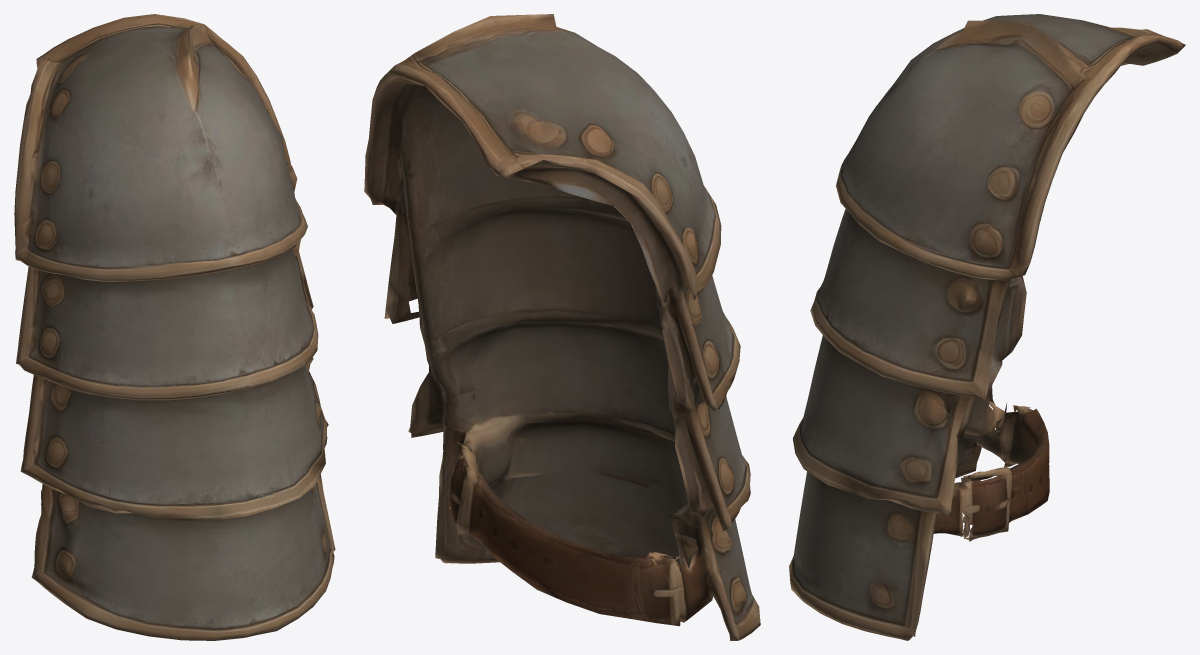
File: steel armor 3d model.glb
3 renders of one model, left to right at view 1: azimuth 30°, elevation 25°; view 2: azimuth 150°, elevation 25°; view 3: azimuth 270°, elevation 25°, orthographic. The views are drawn at different scales.
Visible parts, largest first — view 1: tripo_node_bc534702; view 2: tripo_node_bc534702; view 3: tripo_node_bc534702.
Part boxes in pixels (bbox=[...]): tripo_node_bc534702: bbox=[14, 14, 335, 640]; tripo_node_bc534702: bbox=[364, 14, 760, 640]; tripo_node_bc534702: bbox=[789, 14, 1185, 640].
Size of the model in its own units: 57.83 by 99.41 by 61.66.
1 material, 1 textured.
